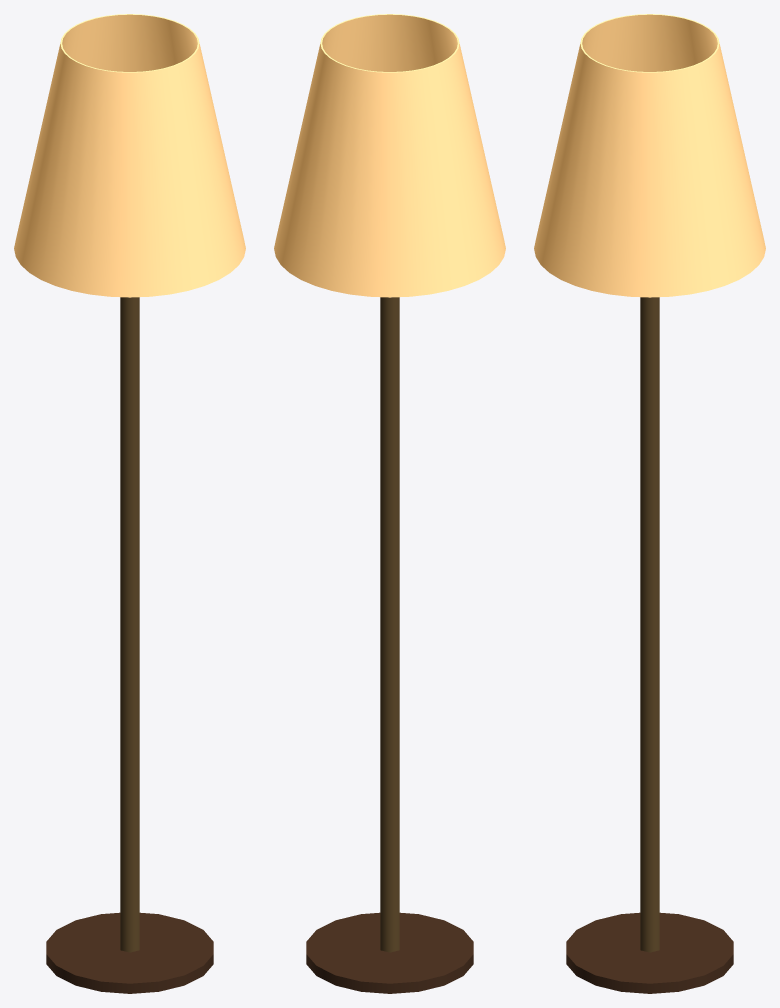
The model's file is Floor_Lamp_ShortRoundBase_ConeShade.fbx.
The picture shows the model from 3 angles, left to right: view 1: azimuth 30°, elevation 25°; view 2: azimuth 150°, elevation 25°; view 3: azimuth 270°, elevation 25°; orthographic projection.
Visible parts, largest first — view 1: Floor_Lamp_ShortRoundBase_ConeShade; view 2: Floor_Lamp_ShortRoundBase_ConeShade; view 3: Floor_Lamp_ShortRoundBase_ConeShade.
Boxes of the visible parts, box(x1,y1,x2,y2) form: Floor_Lamp_ShortRoundBase_ConeShade: box(14, 14, 245, 993); Floor_Lamp_ShortRoundBase_ConeShade: box(274, 14, 505, 993); Floor_Lamp_ShortRoundBase_ConeShade: box(534, 14, 765, 993).
Bounding box in the file's own units: 41 × 178 × 41.
